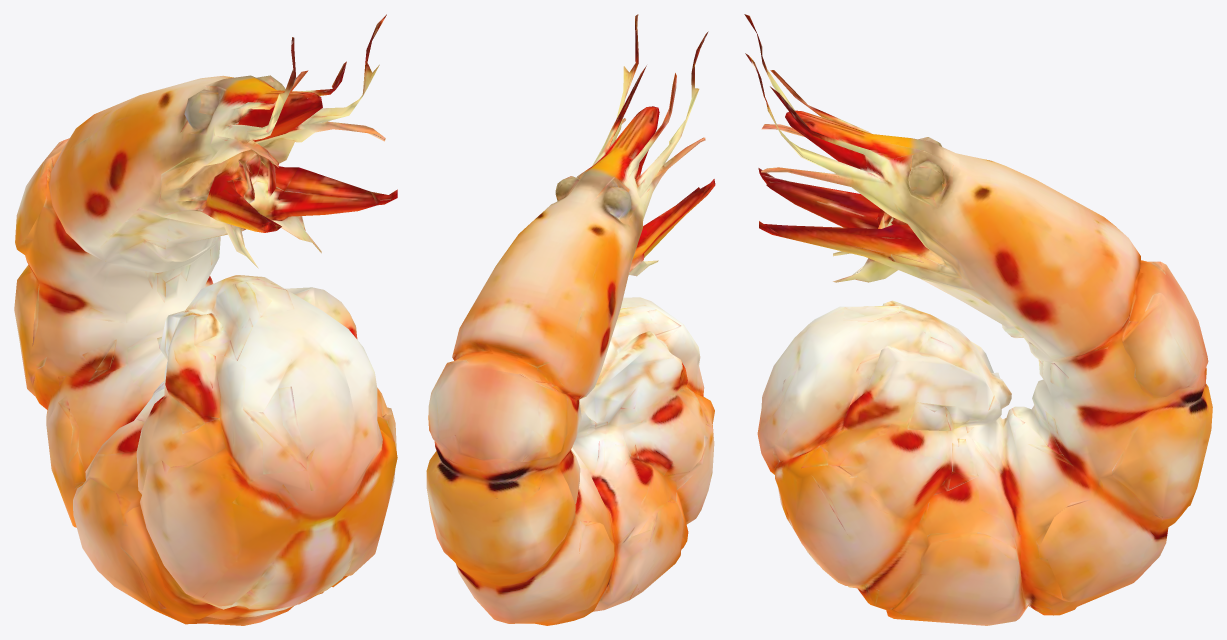
Rendered from shrimp.glb.
3 renders of one model, left to right at view 1: azimuth 30°, elevation 25°; view 2: azimuth 150°, elevation 25°; view 3: azimuth 270°, elevation 25°, orthographic. The views are drawn at different scales.
Visible parts, largest first — view 1: Mesh1.0; view 2: Mesh1.0; view 3: Mesh1.0.
Part boxes in pixels (left/top/right/bottom): Mesh1.0: left=14, top=14, right=397, bottom=625; Mesh1.0: left=426, top=14, right=715, bottom=625; Mesh1.0: left=744, top=14, right=1212, bottom=625.
Bounding box in the file's own units: 0.0451 × 0.12 × 0.0879.
1 material, 1 textured.
